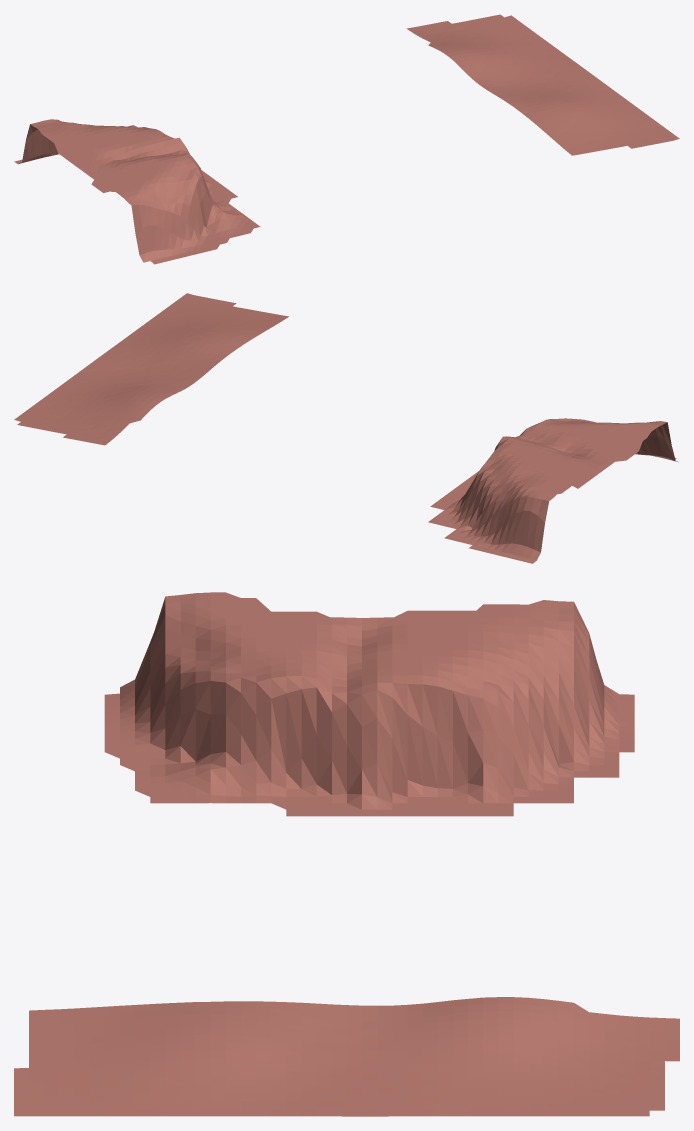
File: australiasurface.fbx
3 views of the same model, one above another, from view 1: azimuth 30°, elevation 25°; view 2: azimuth 150°, elevation 25°; view 3: azimuth 270°, elevation 25° (orthographic). The views are drawn at different scales.
Visible parts, largest first — view 1: hill, ground; view 2: hill, ground; view 3: hill, ground.
Part boxes in pixels (x1,y1,x2,y2): hill: (14,119,260,264); ground: (407,14,679,155); hill: (428,418,678,563); ground: (14,293,288,445); hill: (104,592,634,816); ground: (14,997,679,1116).
Size of the model in its own units: 286 by 27.27 by 172.
